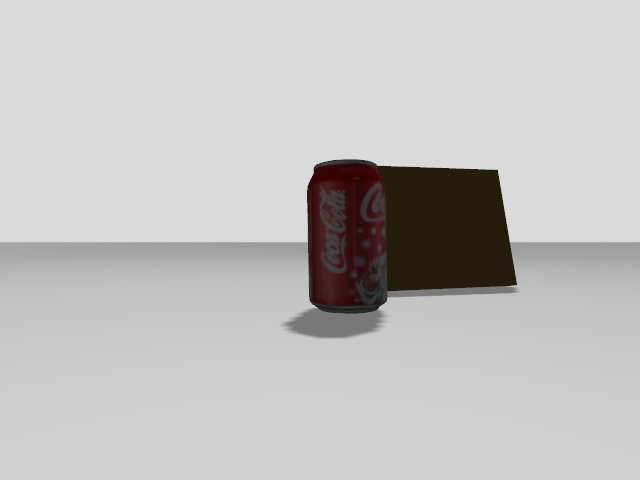canette: (308, 160, 389, 311)
carton: (378, 165, 516, 290)
